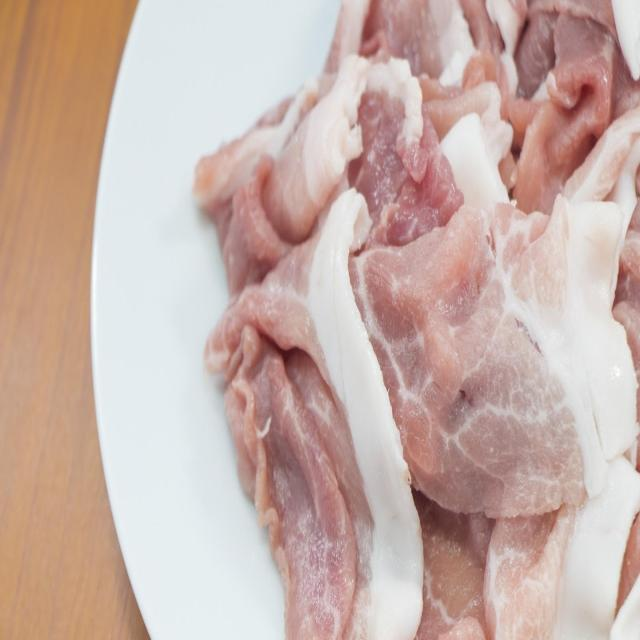NG raw pork,: (189, 46, 428, 640), (352, 61, 594, 515)
